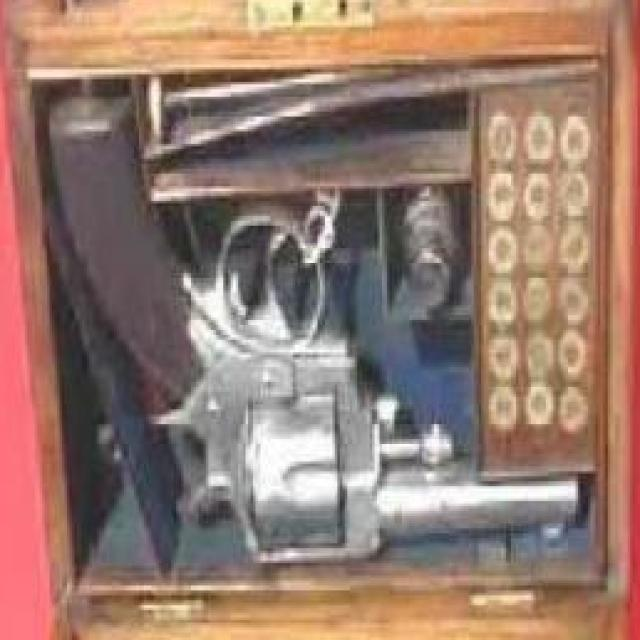pistol: (42, 93, 586, 576)
